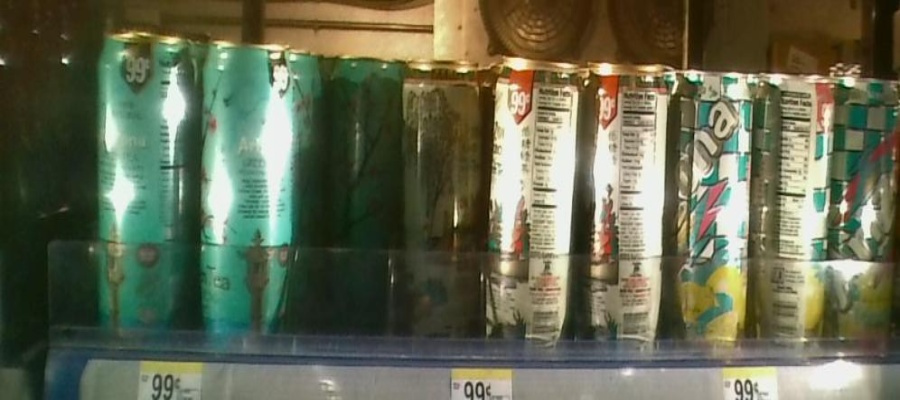bottle: (92, 19, 198, 353), (200, 21, 299, 366), (486, 53, 580, 362), (583, 45, 670, 360), (398, 59, 484, 353), (673, 55, 752, 362), (755, 50, 831, 355), (324, 39, 398, 333), (834, 62, 900, 358)
